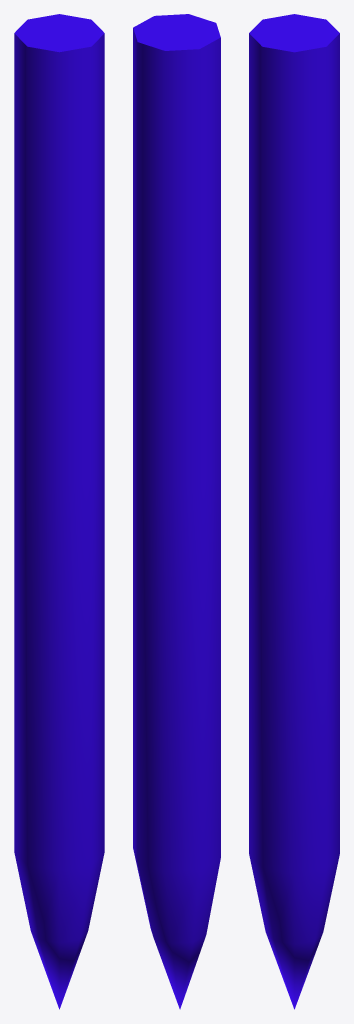
The model's file is office_pack_ballpointPen_1_meshColldier.fbx.
3 renders of one model, left to right at view 1: azimuth 90°, elevation 25°; view 2: azimuth 210°, elevation 25°; view 3: azimuth 270°, elevation 25°, orthographic.
Parts seen in each view (by area): view 1: office_pack_ballpointPen_1_meshCollider; view 2: office_pack_ballpointPen_1_meshCollider; view 3: office_pack_ballpointPen_1_meshCollider.
Boxes of the visible parts, <box> form: office_pack_ballpointPen_1_meshCollider: <box>14,14,104,1009</box>; office_pack_ballpointPen_1_meshCollider: <box>133,14,220,1009</box>; office_pack_ballpointPen_1_meshCollider: <box>249,14,339,1009</box>.
Bounding box in the file's own units: 1.83 × 21.72 × 1.83.
